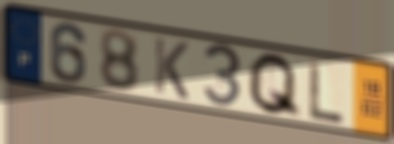3: (201, 41, 244, 112)
6: (47, 19, 88, 85)
8: (97, 27, 141, 94)
K: (152, 34, 191, 102)
L: (306, 57, 346, 126)
Q: (245, 51, 304, 121)
